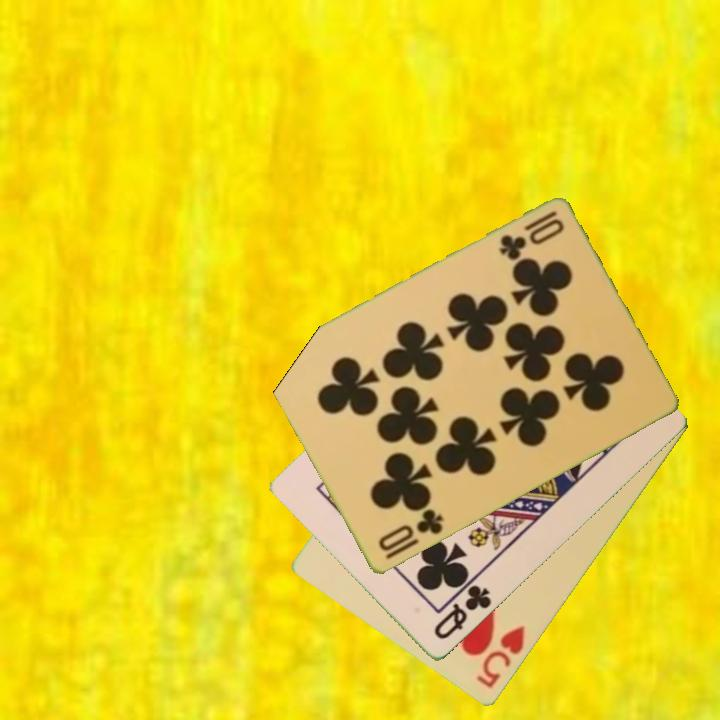10c: (495, 208, 567, 263), (374, 505, 447, 555)
5h: (473, 623, 528, 692)
Qc: (430, 581, 495, 643)
